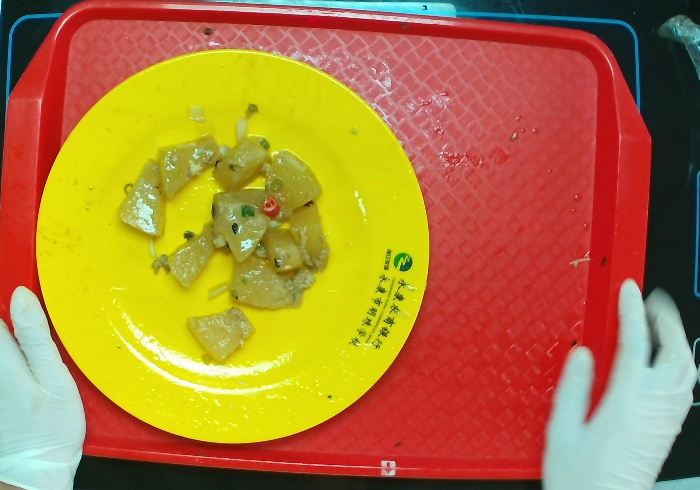YKMZ-Huang_Se_Mian_Pan: (35, 48, 435, 445)
